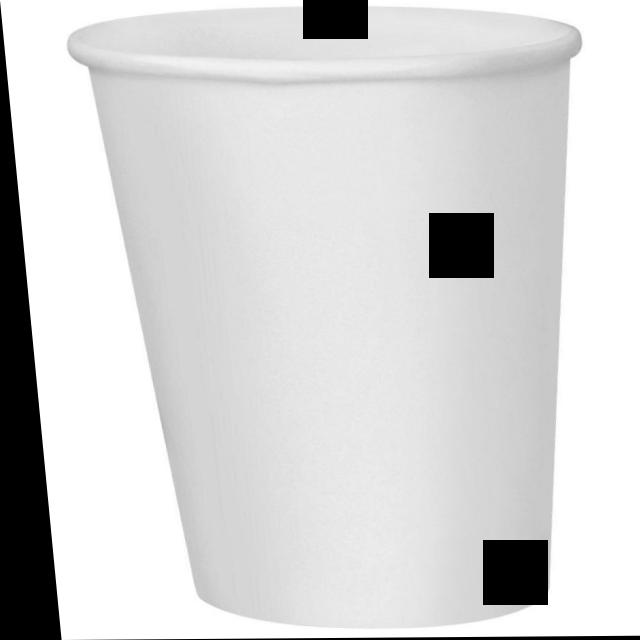karton-bardak: (73, 0, 621, 624)
